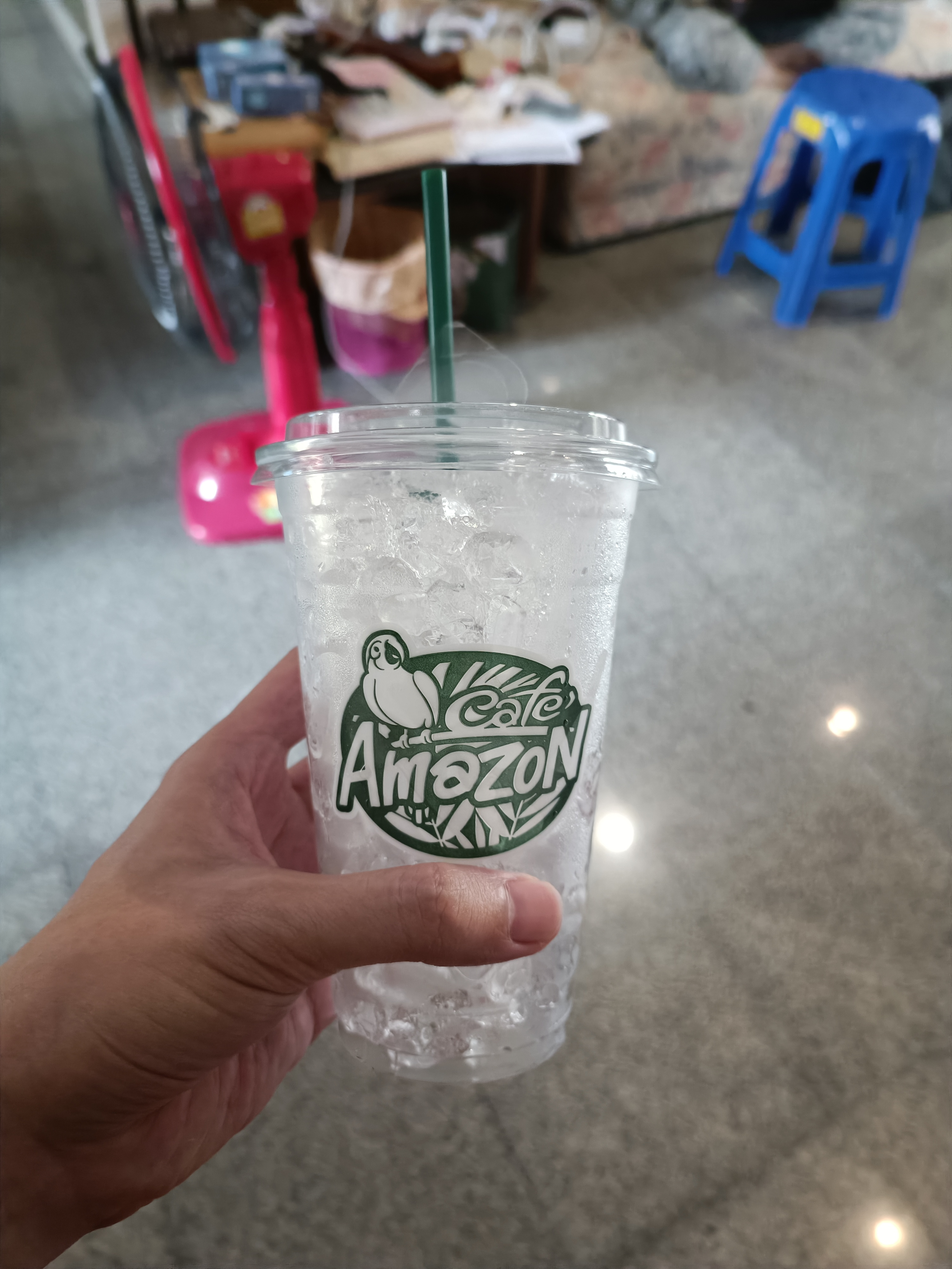plastic: (248, 148, 659, 1090)
